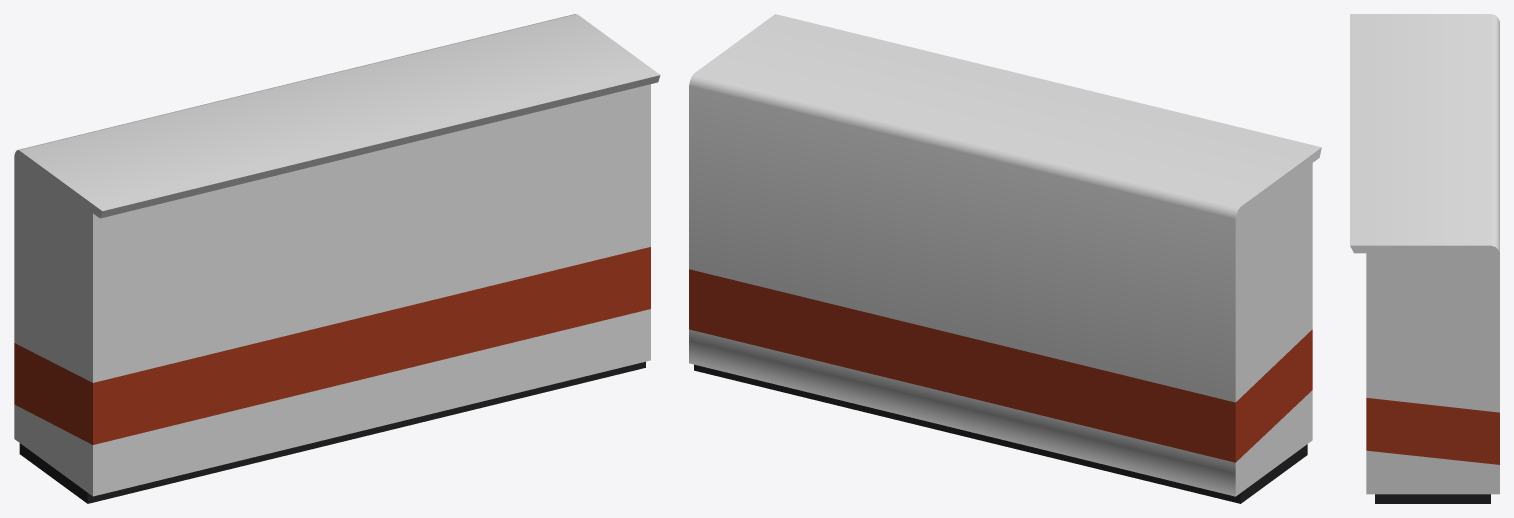
The model's file is Desk_1.fbx.
The picture shows the model from 3 angles, left to right: view 1: azimuth 30°, elevation 25°; view 2: azimuth 150°, elevation 25°; view 3: azimuth 270°, elevation 25°; orthographic projection. The views are drawn at different scales.
Parts seen in each view (by area): view 1: Desk_1; view 2: Desk_1; view 3: Desk_1.
Part boxes in pixels (x1=…): Desk_1: x1=14, y1=14, x2=660, y2=503; Desk_1: x1=689, y1=14, x2=1321, y2=503; Desk_1: x1=1350, y1=14, x2=1499, y2=503.
Bounding box in the file's own units: 200 × 104 × 54.67.
